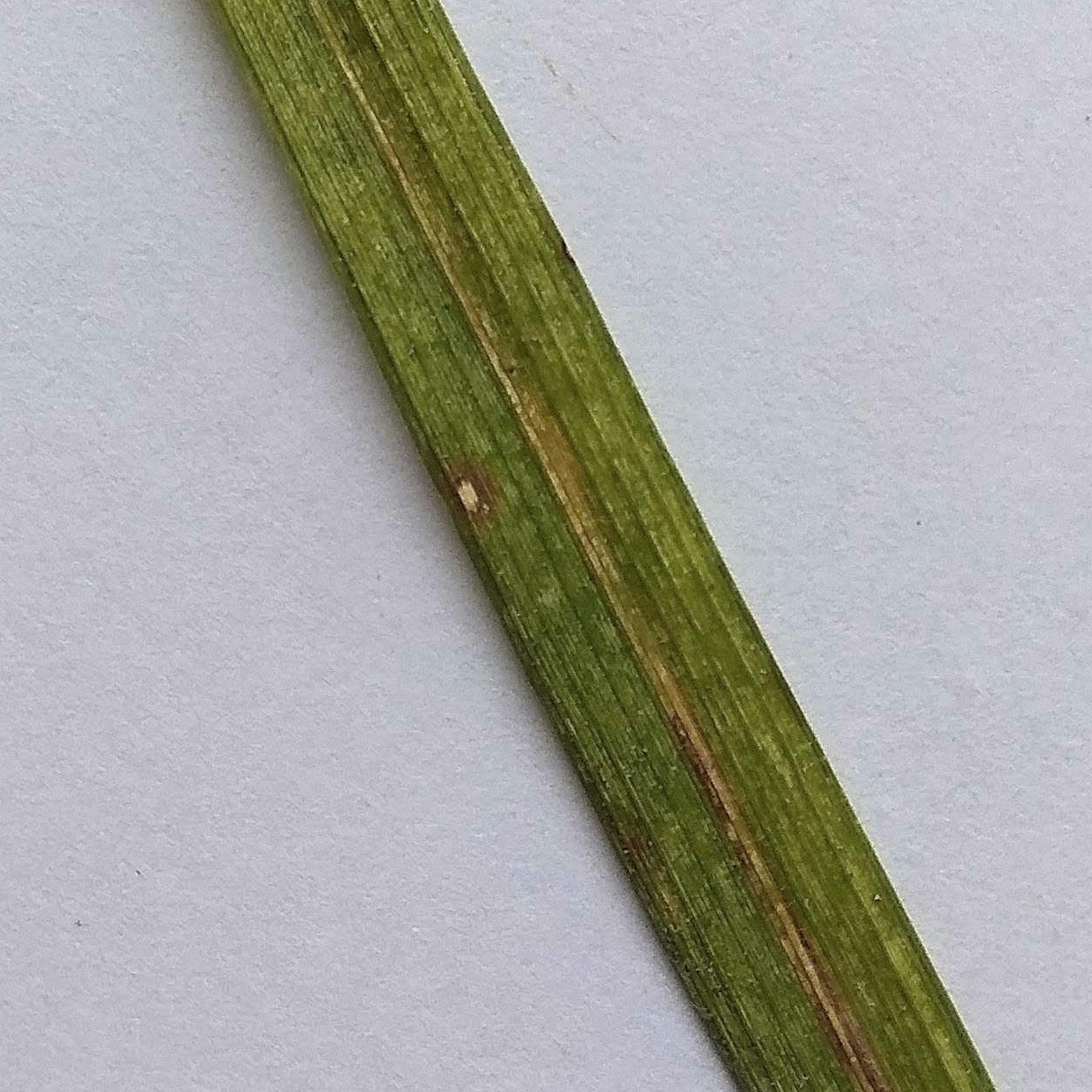Brown_Spot: (433, 427, 515, 528)
